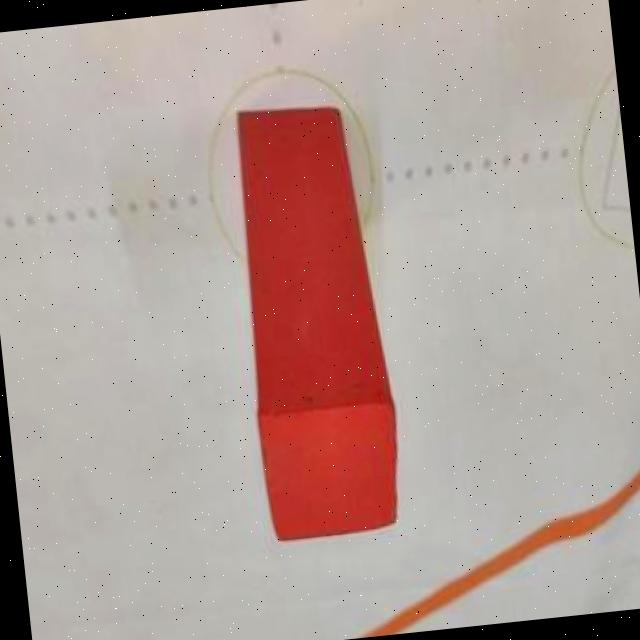redbox: (224, 96, 410, 549)
